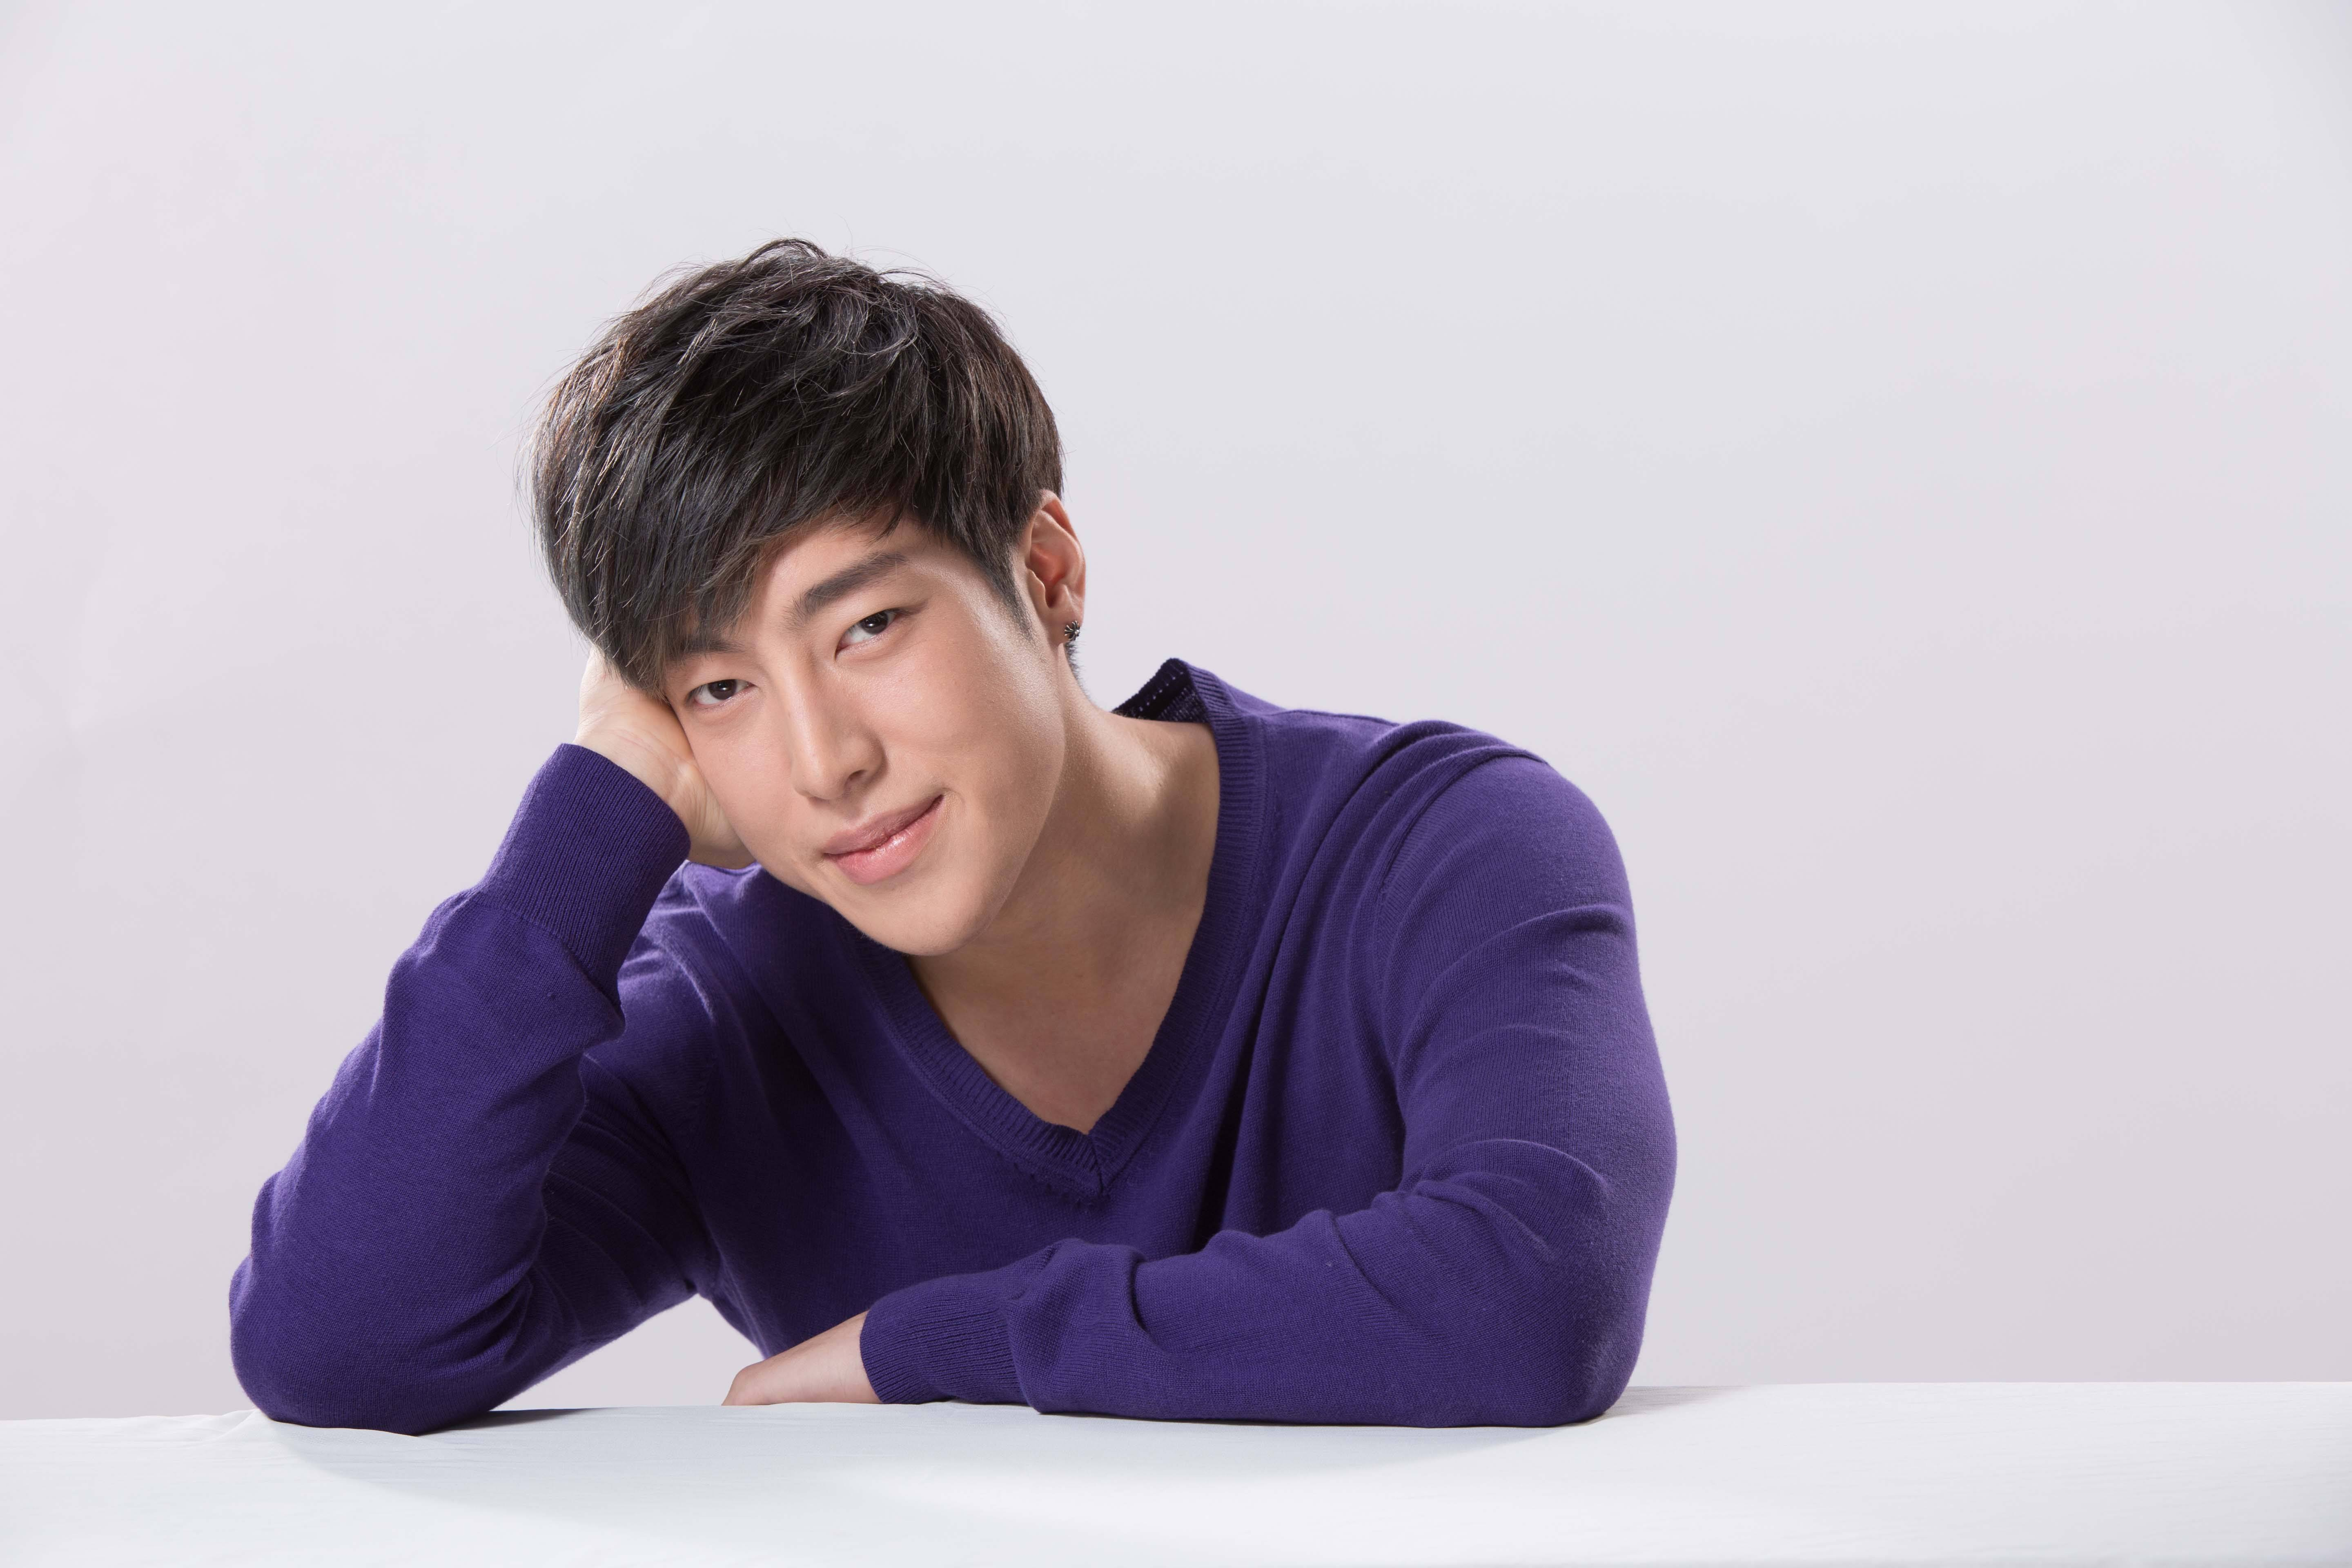person: (336, 272, 1645, 1441)
